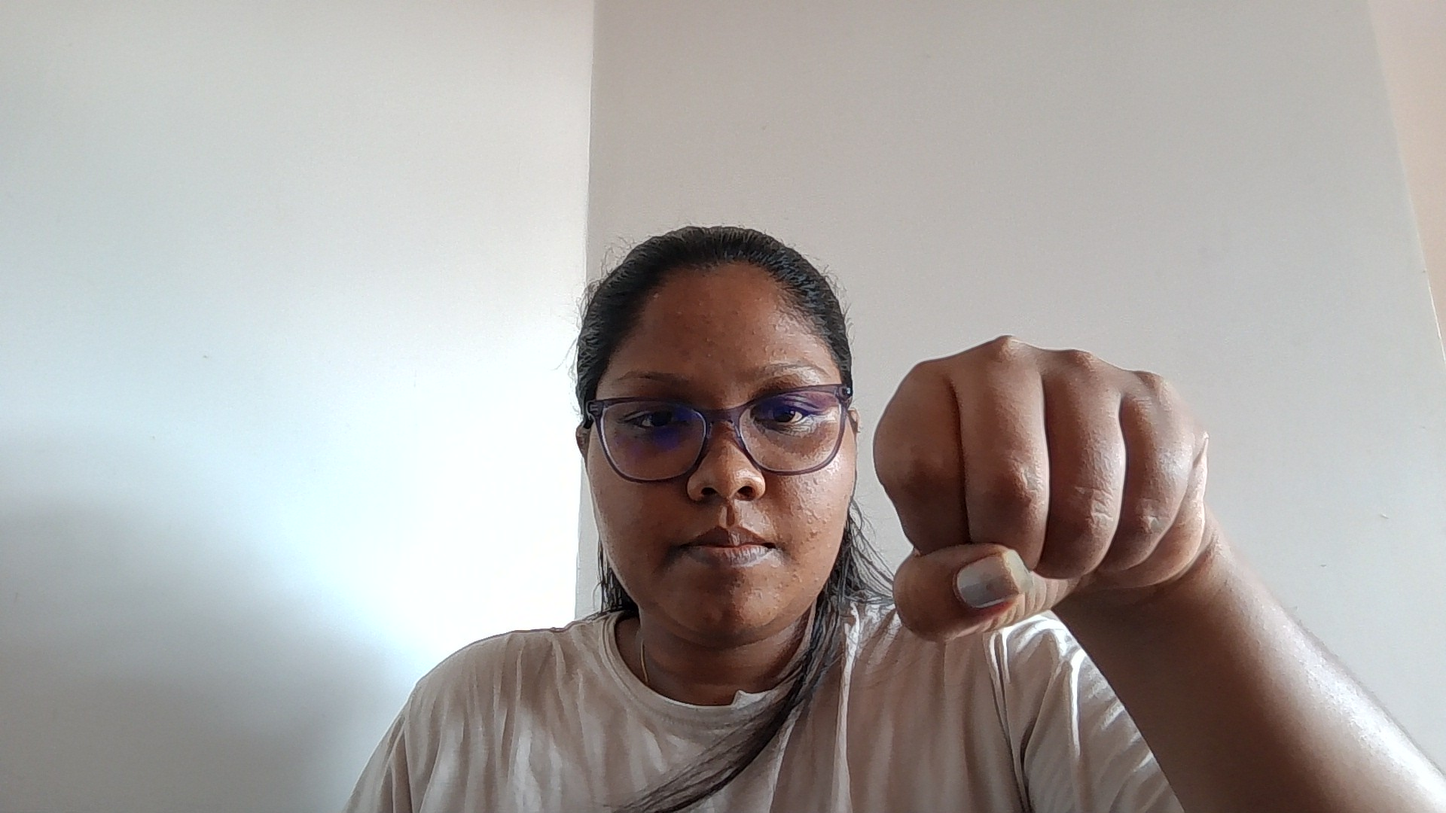Yes: (860, 280, 1369, 712)
